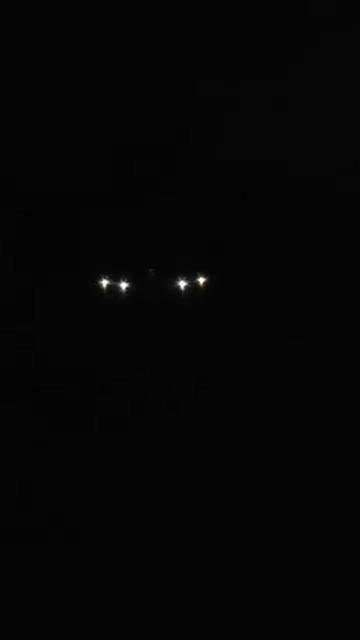Plane: (75, 231, 233, 325)
